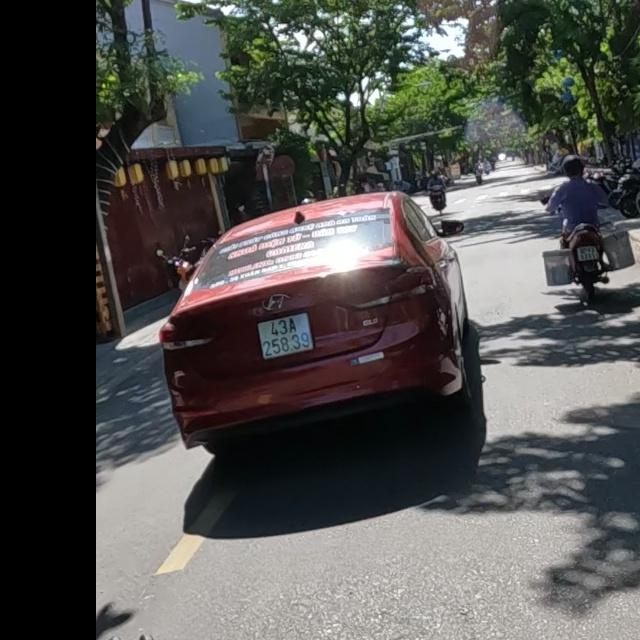license-plate: (255, 310, 316, 361)
